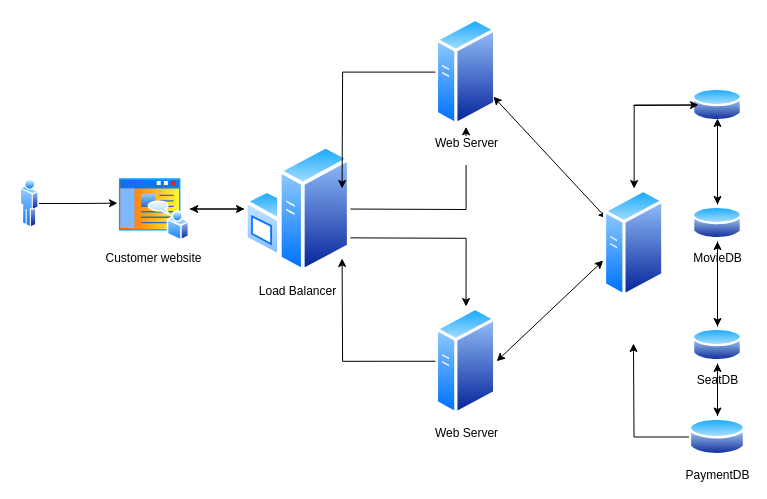
Some shapes in this 767 by 499 pixel diagram are drawn without their labels. Here are the shapes that lost their labels. From the top down, the centre of each, then its label:
At pixel 717 104: "UserDB".
At pixel 29 203: "User".
At pixel 633 243: "Management Server".
